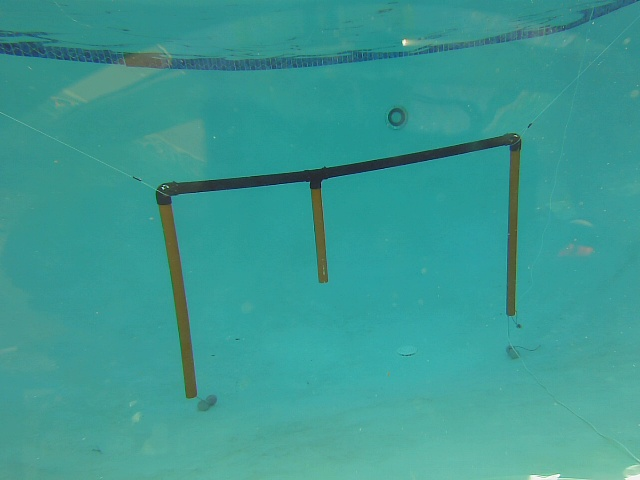Gate: (155, 201, 198, 398), (497, 145, 522, 320), (308, 181, 333, 285)
